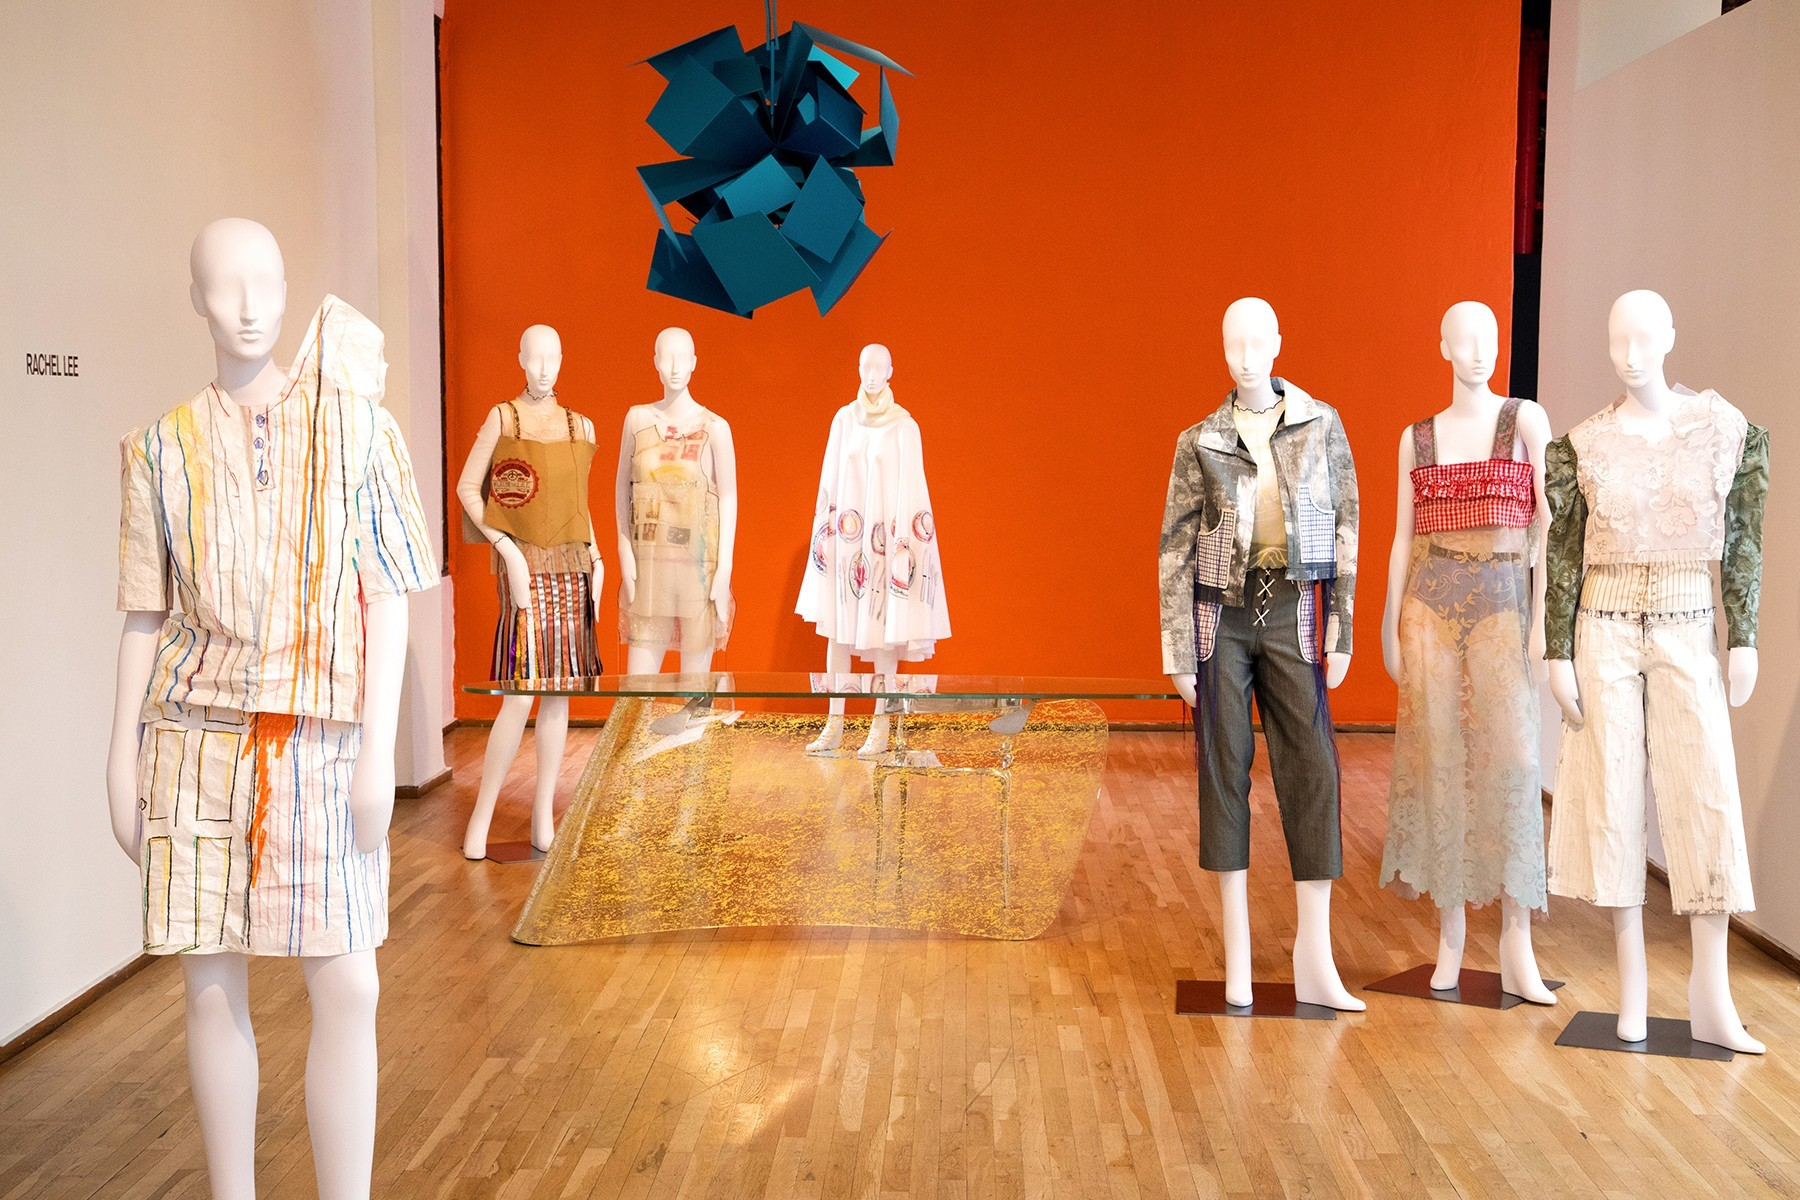person-like: (93, 201, 448, 1196), (1534, 279, 1783, 1066), (1144, 288, 1379, 1025), (1373, 291, 1573, 1012), (450, 313, 604, 867), (785, 333, 958, 764), (605, 318, 746, 729)
